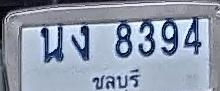3: (138, 18, 155, 56)
4: (184, 16, 202, 54)
8: (115, 20, 132, 57)
9: (161, 17, 178, 55)
A07: (71, 24, 89, 60)
A25: (40, 25, 64, 62)
CBI: (89, 66, 143, 91)
